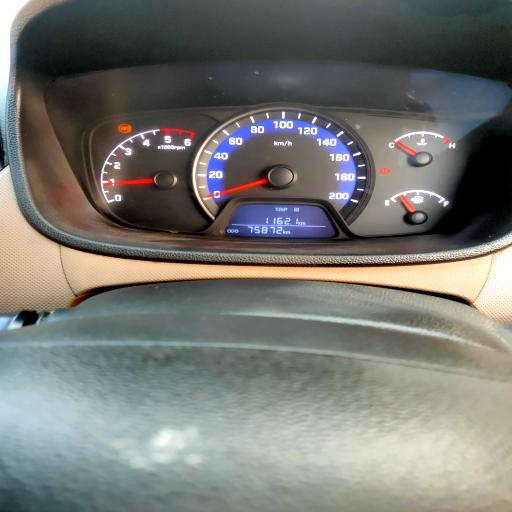brake_system_fault: (379, 168, 390, 175)
tachometer: (100, 128, 194, 219)
